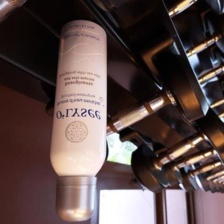aerosol_cans: (44, 16, 114, 223)
